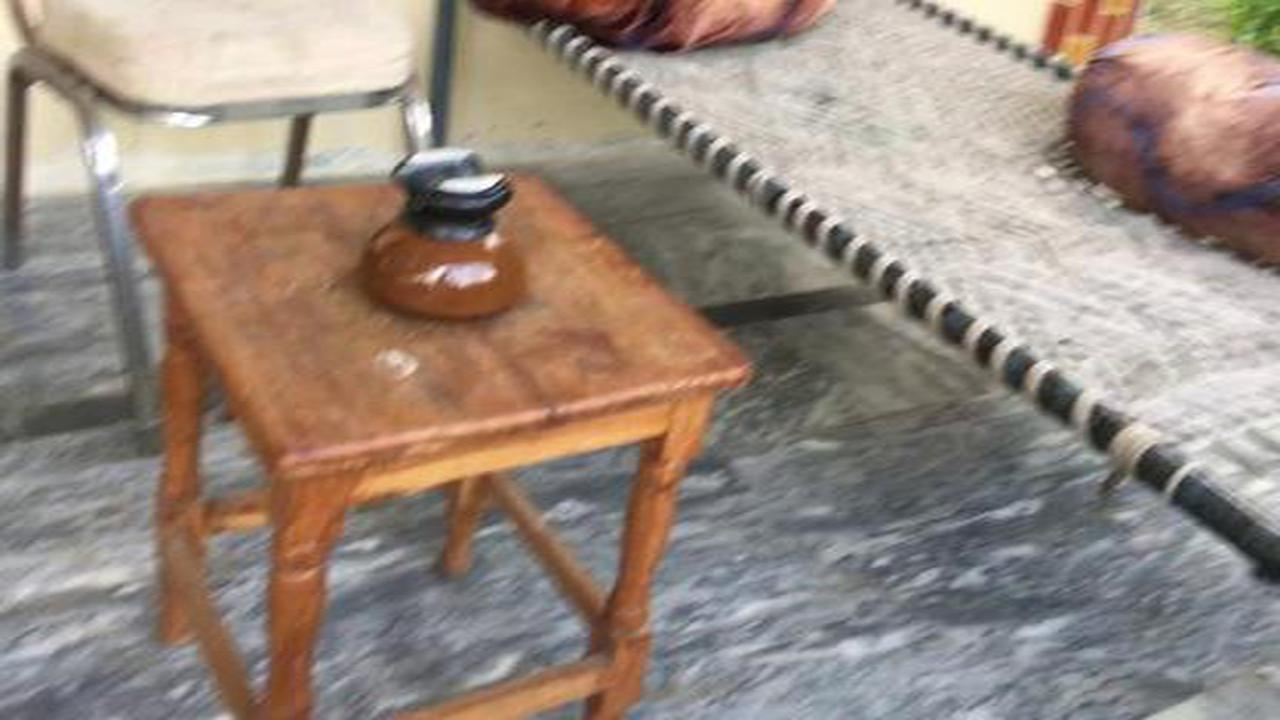insulator_pin: (348, 134, 539, 336)
